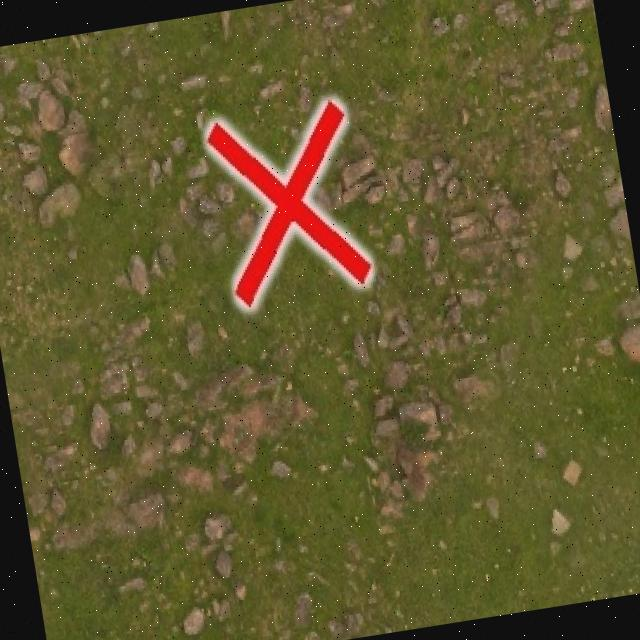x_marker: (205, 99, 372, 308)
